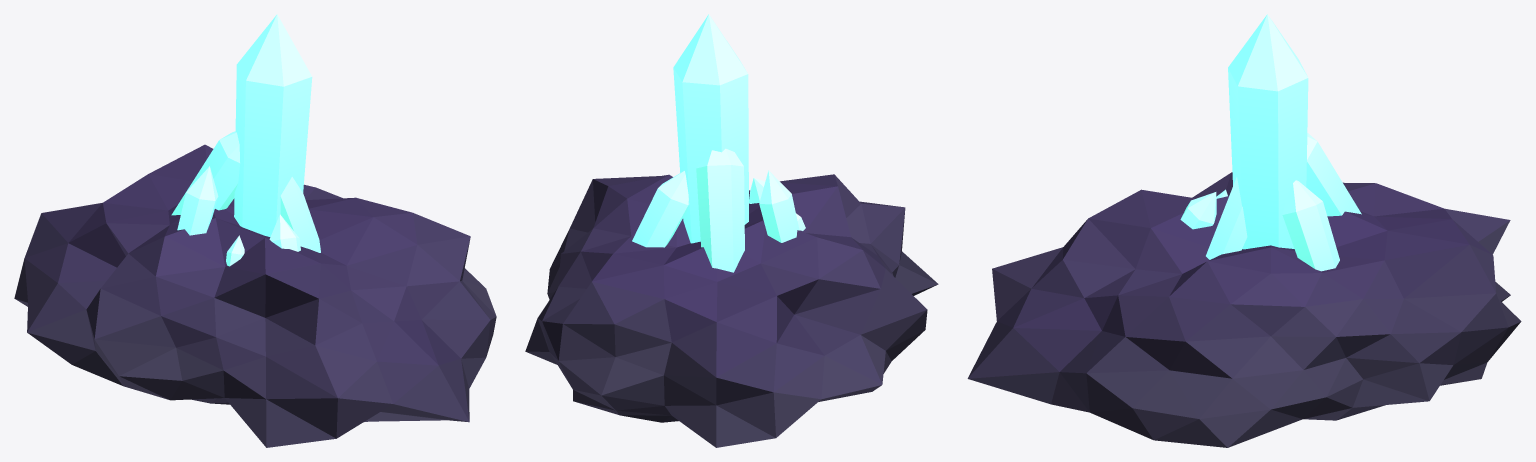
Rendered from crystal.glb.
3 views of the same model, side by side, from view 1: azimuth 30°, elevation 25°; view 2: azimuth 150°, elevation 25°; view 3: azimuth 270°, elevation 25° (orthographic). The views are drawn at different scales.
Parts seen in each view (by area): view 1: crystal; view 2: crystal; view 3: crystal.
Part boxes in pixels (x1,y1,x2,y2): crystal: (14,14,496,447); crystal: (525,14,938,447); crystal: (967,14,1521,447).
Size of the model in its own units: 2.13 by 1.77 by 2.47.
